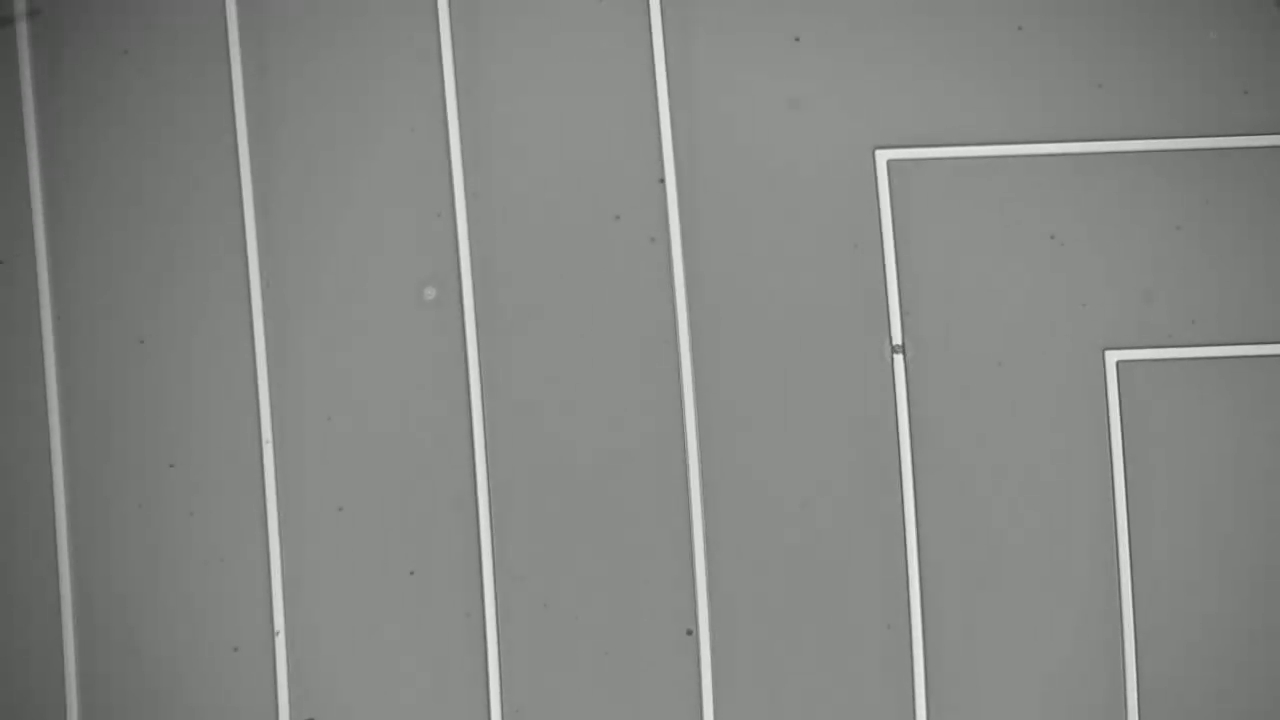stains_enbedded: (881, 328, 920, 363)
